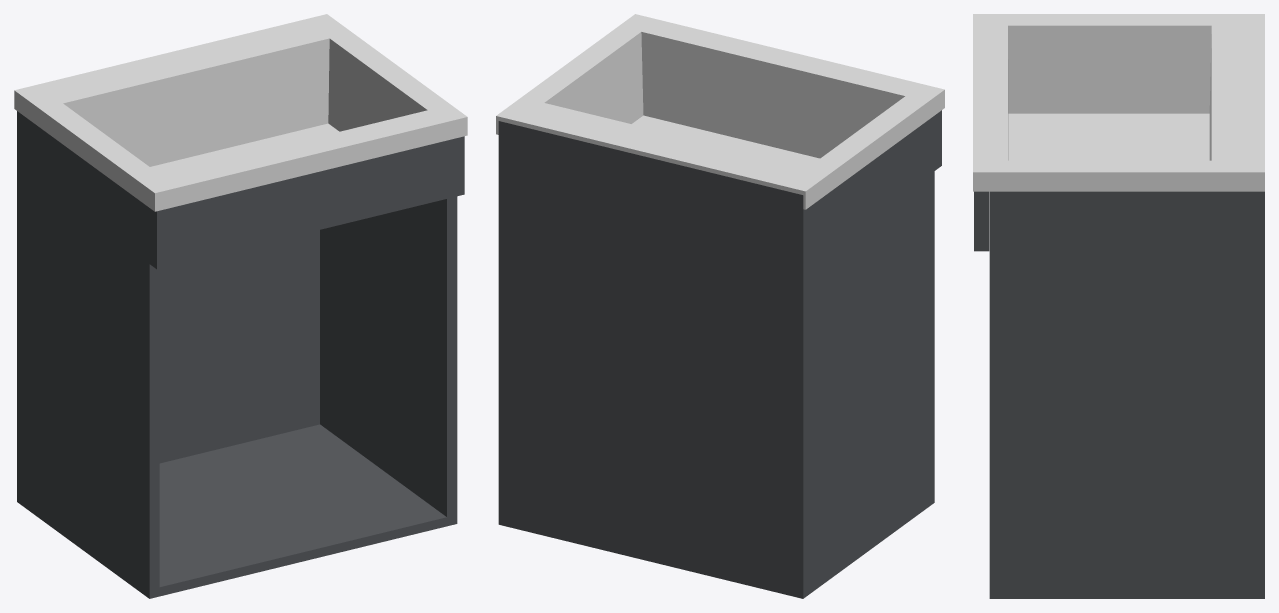
File: Bathroom_C3_04.fbx
The picture shows the model from 3 angles, left to right: view 1: azimuth 30°, elevation 25°; view 2: azimuth 150°, elevation 25°; view 3: azimuth 270°, elevation 25°; orthographic projection. The views are drawn at different scales.
Parts seen in each view (by area): view 1: Bathroom_C3_04; view 2: Bathroom_C3_04; view 3: Bathroom_C3_04.
Boxes of the visible parts, left/top/right/bottom form: Bathroom_C3_04: left=14, top=14, right=467, bottom=598; Bathroom_C3_04: left=496, top=14, right=944, bottom=598; Bathroom_C3_04: left=973, top=14, right=1264, bottom=598.
Bounding box in the file's own units: 61 × 76.82 × 47.51.
